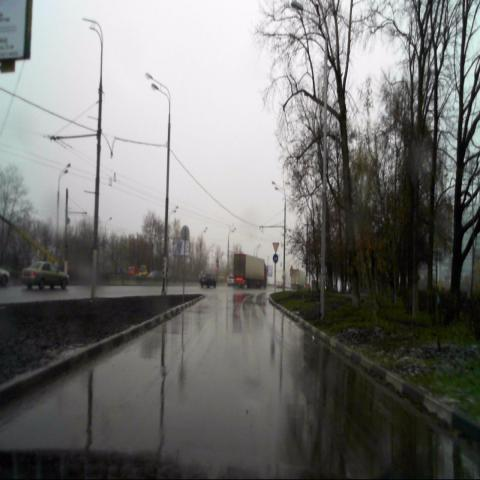2_4: (272, 242, 279, 253)
